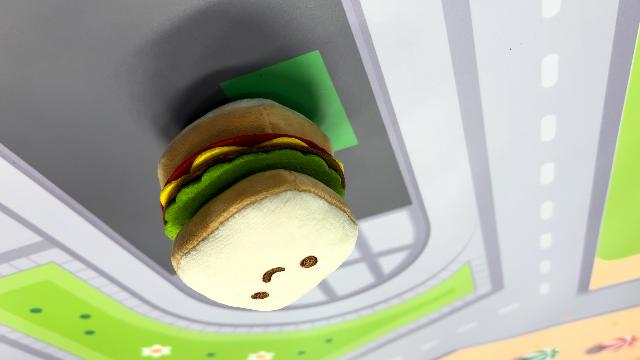sandwich: (154, 94, 362, 312)
